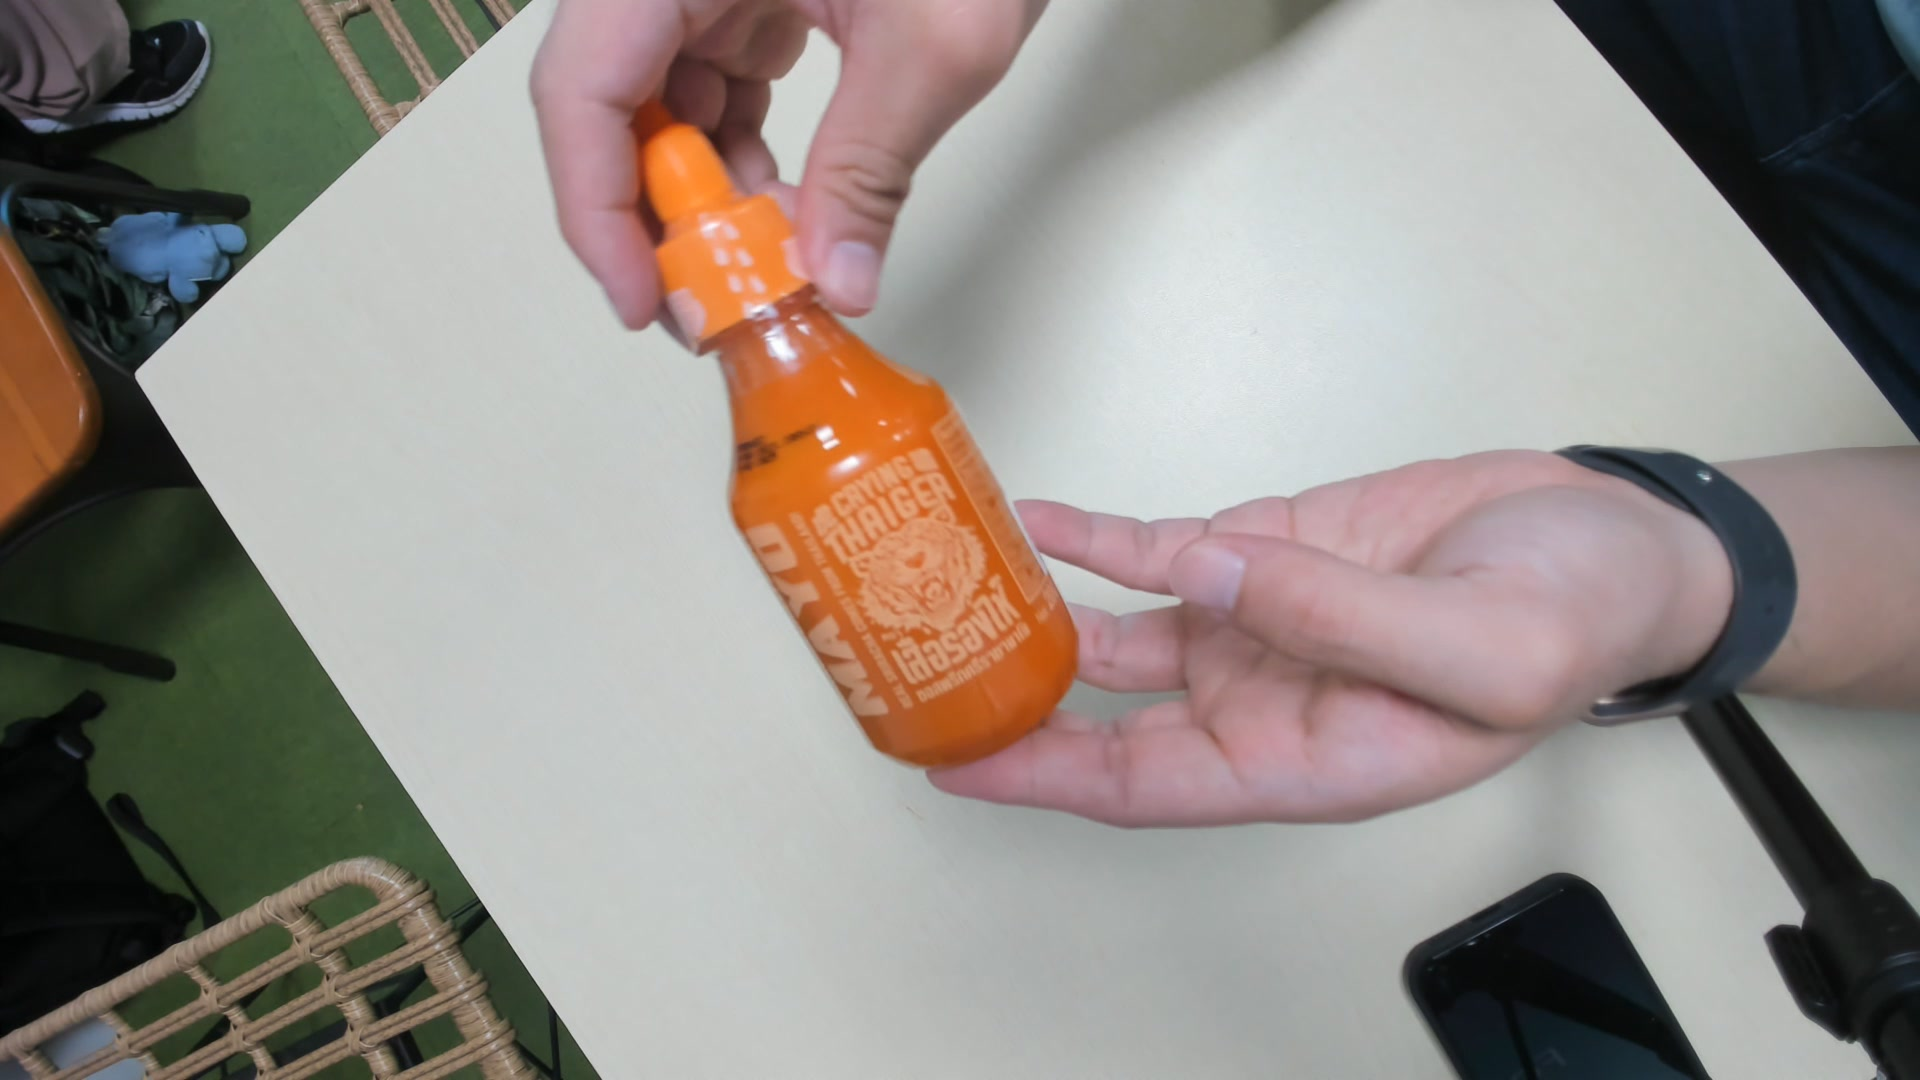OtherSauceDressing_200-299g_NonHalal_NonHealthy: (629, 95, 1087, 770)
